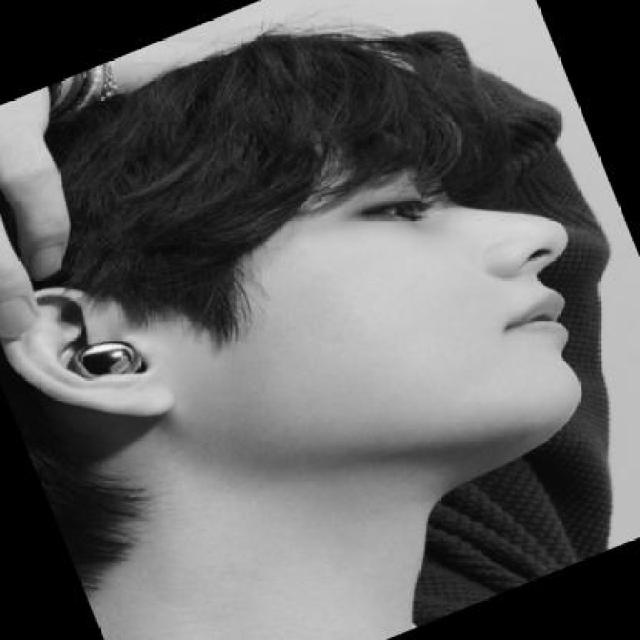earphone: (72, 332, 172, 393)
